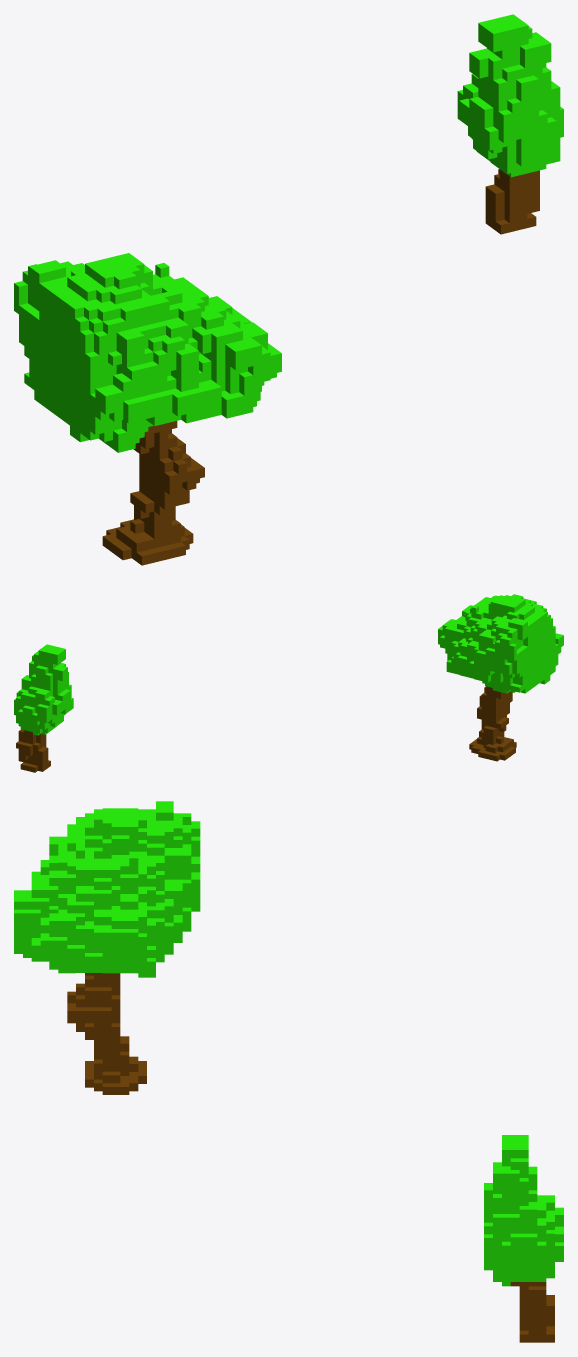
File: plot-0.obj
3 renders of one model, top to bottom at view 1: azimuth 30°, elevation 25°; view 2: azimuth 150°, elevation 25°; view 3: azimuth 270°, elevation 25°, orthographic. The views are drawn at different scales.
Size of the model in its own units: 8.2 by 3.1 by 6.2.
Materials: 1 (1 with a texture image).
